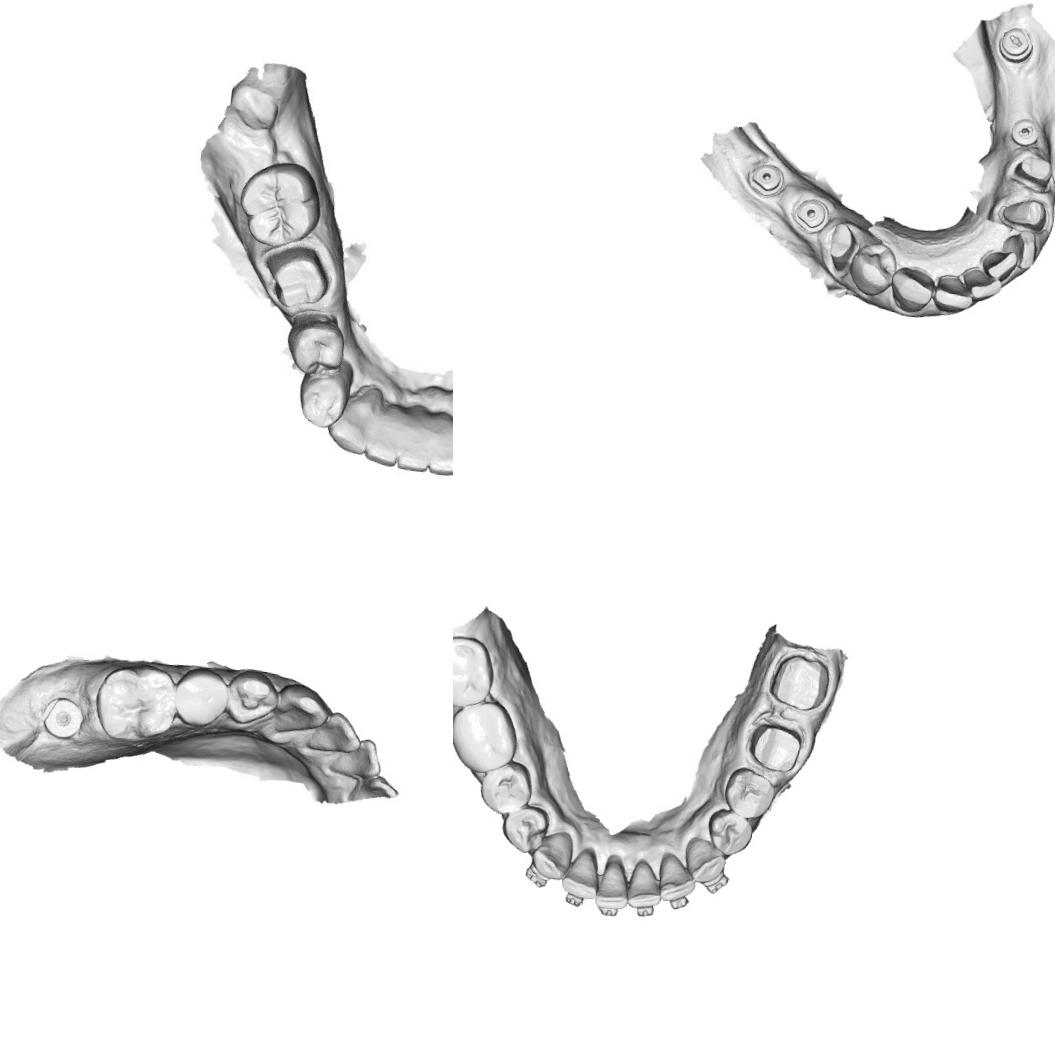canine: (270, 679, 331, 746), (326, 384, 380, 456), (681, 832, 730, 888), (887, 264, 938, 316), (528, 826, 575, 882)
crown: (257, 241, 334, 315), (765, 650, 833, 714), (746, 718, 805, 774), (823, 219, 859, 275), (998, 194, 1050, 232), (1011, 151, 1055, 189)
implant: (42, 692, 82, 738), (790, 195, 833, 235), (747, 158, 787, 198)
implant_minus: (995, 23, 1036, 65), (1008, 115, 1044, 150)
incisor: (306, 706, 364, 761), (326, 733, 386, 784), (558, 843, 604, 902), (363, 408, 406, 469), (396, 410, 436, 475), (655, 849, 700, 905), (592, 855, 632, 913), (625, 856, 666, 912), (930, 272, 976, 316), (998, 228, 1040, 272), (960, 265, 1004, 303), (426, 419, 453, 479), (978, 247, 1020, 284)
molar: (232, 156, 327, 252), (92, 662, 180, 745), (453, 695, 522, 777), (453, 631, 500, 713)
premolar: (284, 309, 346, 380), (294, 363, 352, 431), (475, 756, 536, 820), (172, 664, 230, 724), (846, 237, 900, 300), (720, 764, 778, 822), (224, 668, 280, 728), (498, 801, 552, 856), (704, 805, 756, 858)
